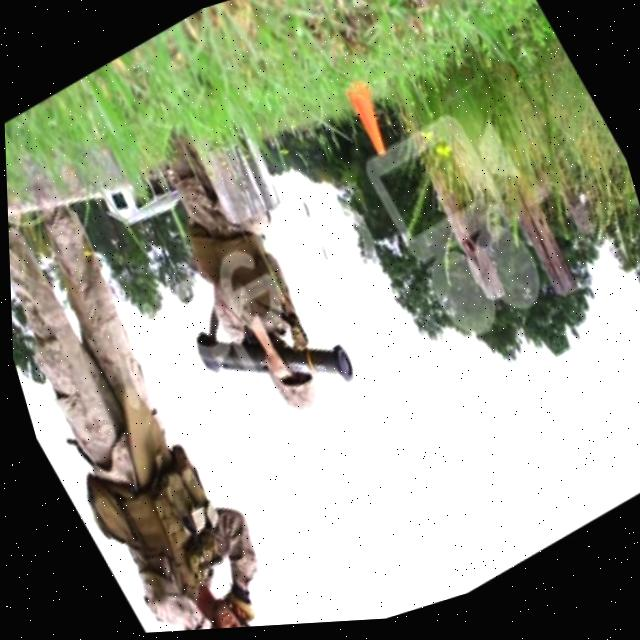rocket: (172, 258, 366, 456)
